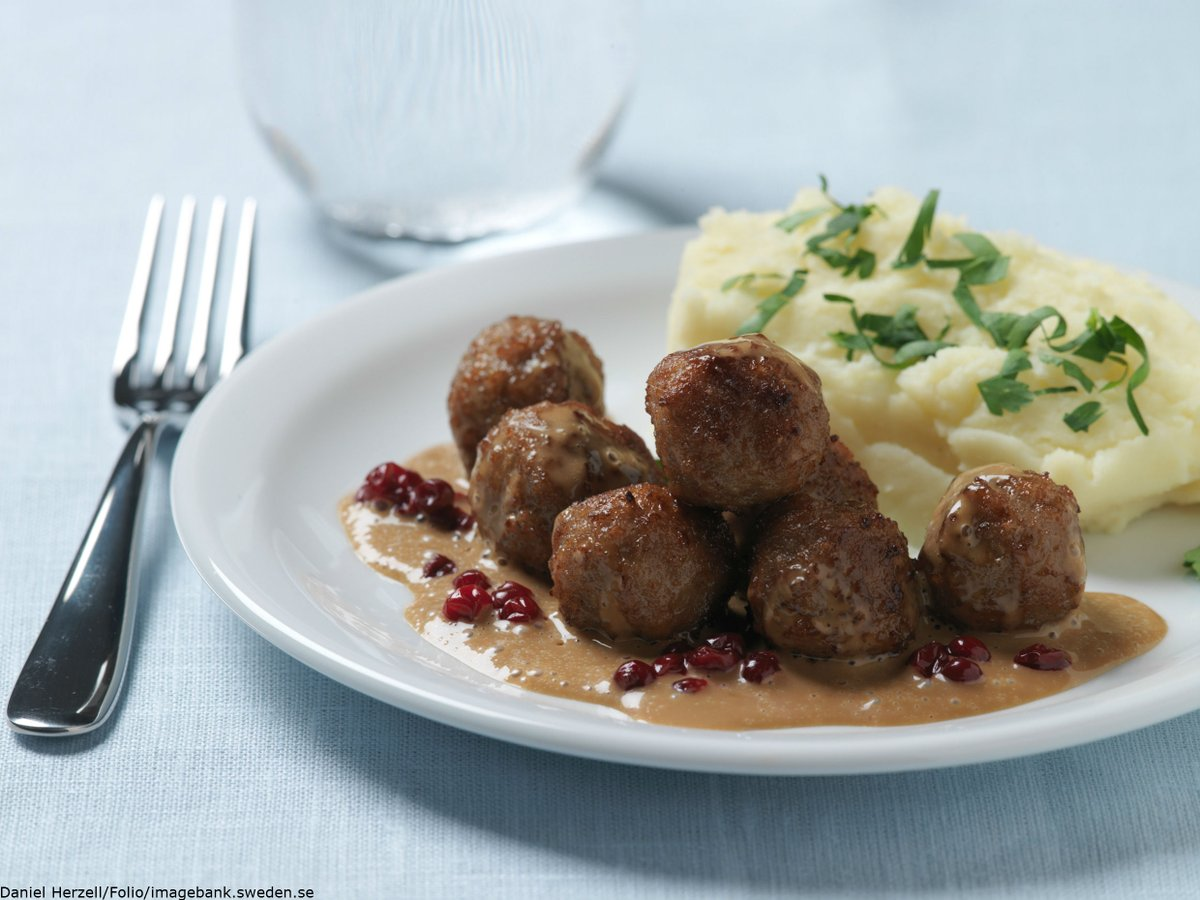meatballs: (538, 483, 732, 637), (751, 501, 917, 680), (457, 316, 593, 531), (648, 347, 835, 495), (945, 471, 1093, 631)
